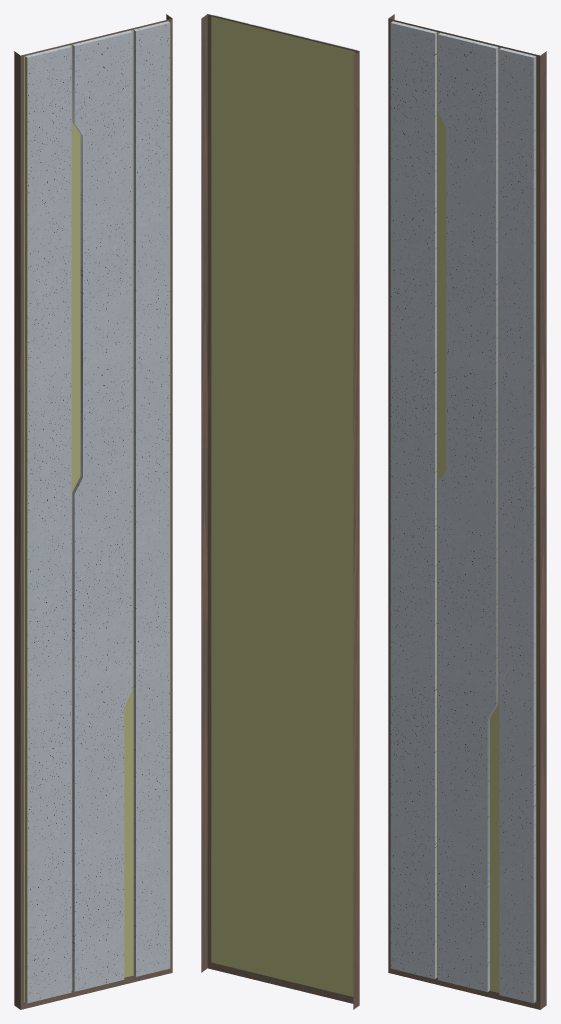
3 renders of one model, left to right at view 1: azimuth 30°, elevation 25°; view 2: azimuth 150°, elevation 25°; view 3: azimuth 330°, elevation 25°, orthographic.
Parts seen in each view (by area): view 1: M_W_005_c_2x12; view 2: M_W_005_c_2x12; view 3: M_W_005_c_2x12.
Boxes of the visible parts, box(x1,y1,x2,y2) form: M_W_005_c_2x12: box(14, 14, 172, 1009); M_W_005_c_2x12: box(201, 14, 359, 1009); M_W_005_c_2x12: box(388, 14, 546, 1009).
Bounding box in the file's own units: 2 × 12 × 0.1921.
